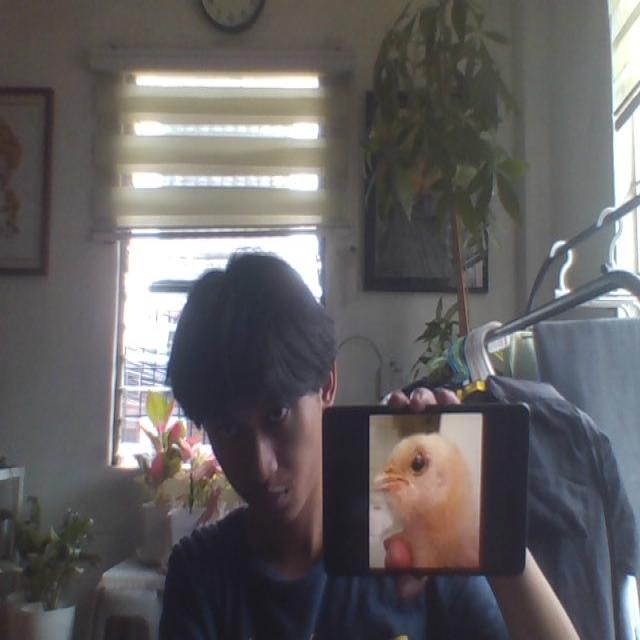Sick: (378, 434, 477, 569)
